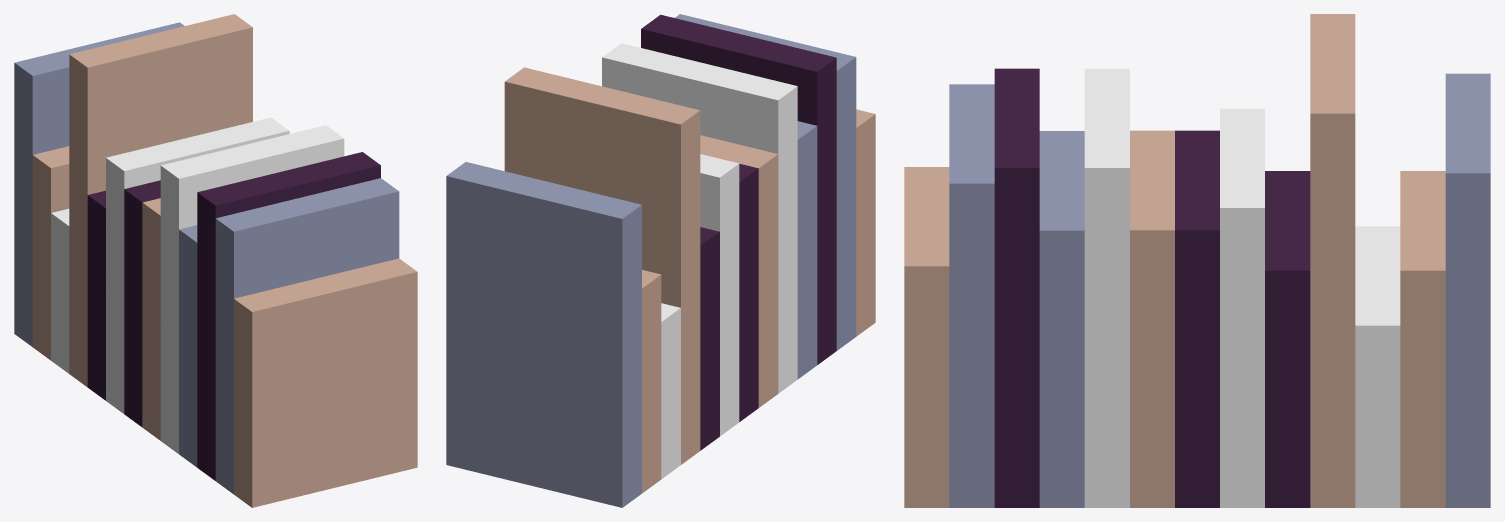
File: Books.fbx
3 renders of one model, left to right at view 1: azimuth 30°, elevation 25°; view 2: azimuth 150°, elevation 25°; view 3: azimuth 270°, elevation 25°, orthographic. The views are drawn at different scales.
Parts seen in each view (by area): view 1: Books.004; view 2: Books.004; view 3: Books.004.
Boxes of the visible parts, bbox=[...] form: Books.004: bbox=[14, 14, 417, 507]; Books.004: bbox=[446, 14, 875, 507]; Books.004: bbox=[904, 14, 1490, 507].
Bounding box in the file's own units: 24.06 × 44.47 × 59.91.
